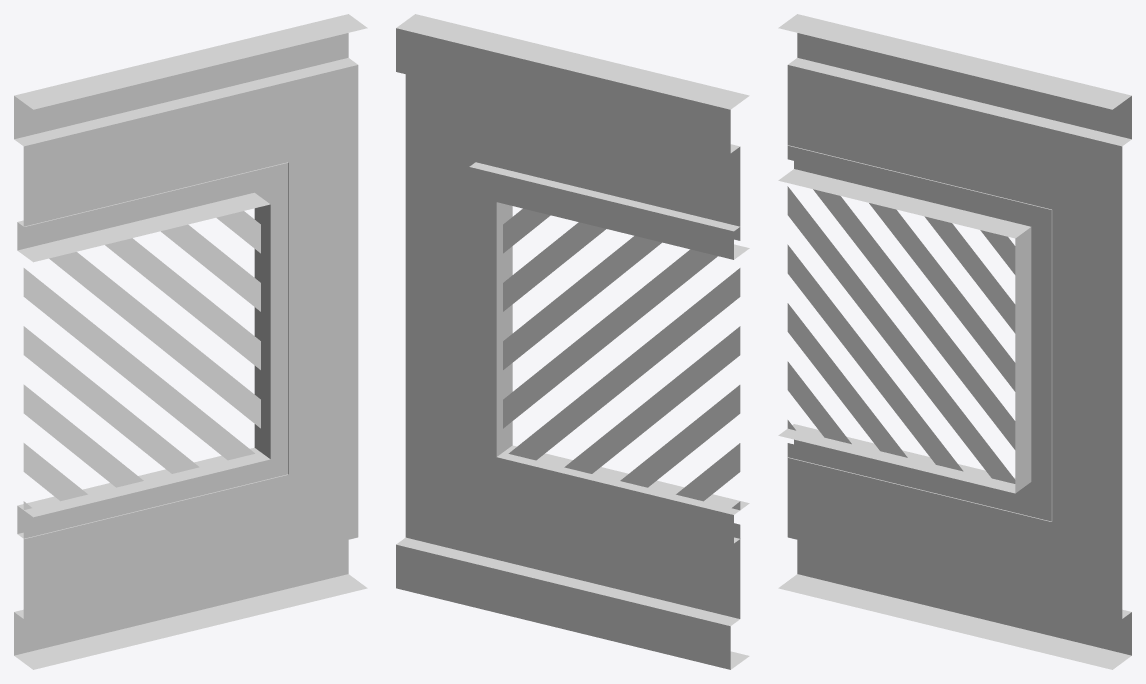
File: proto_wall_windows_L_01.fbx
3 renders of one model, left to right at view 1: azimuth 30°, elevation 25°; view 2: azimuth 150°, elevation 25°; view 3: azimuth 330°, elevation 25°, orthographic.
Parts seen in each view (by area): view 1: proto_wall_windows_L_01; view 2: proto_wall_windows_L_01; view 3: proto_wall_windows_L_01.
Part boxes in pixels (x1,y1,x2,y2): proto_wall_windows_L_01: (14,14,367,669); proto_wall_windows_L_01: (396,14,749,669); proto_wall_windows_L_01: (778,14,1131,669).
Size of the model in its own units: 200 by 320 by 20.
